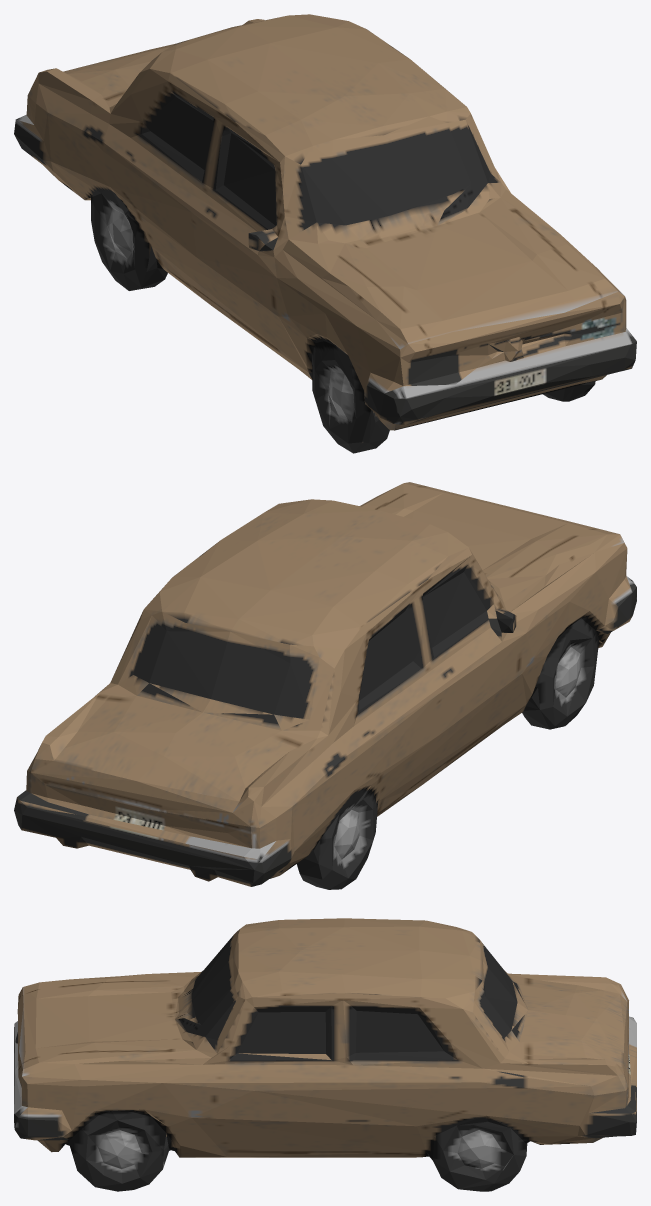
The picture shows the model from 3 angles, top to bottom: view 1: azimuth 30°, elevation 25°; view 2: azimuth 150°, elevation 25°; view 3: azimuth 270°, elevation 25°; orthographic projection. The views are drawn at different scales.
Size of the model in its own units: 1.6 by 1.44 by 4.17.
Materials: 1 (1 with a texture image).
